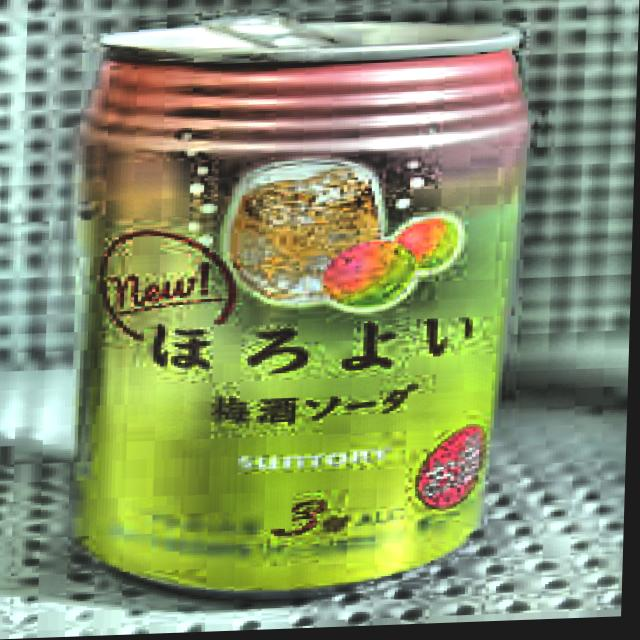can: (64, 0, 549, 625)
